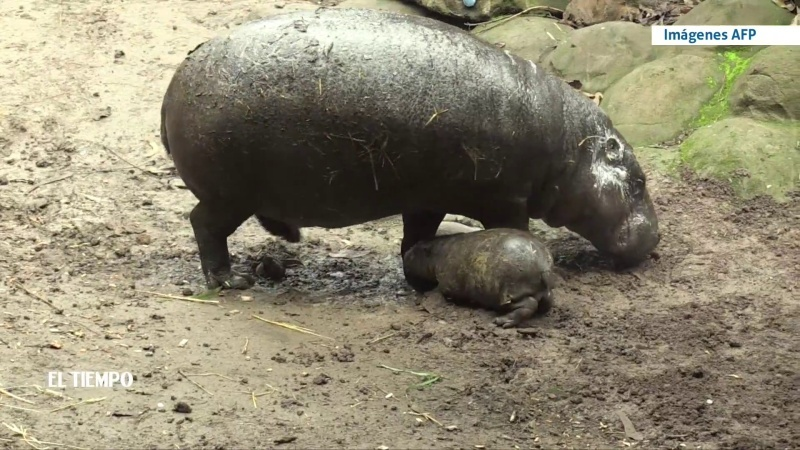hipopotamo: (150, 12, 705, 294), (380, 212, 574, 344)
